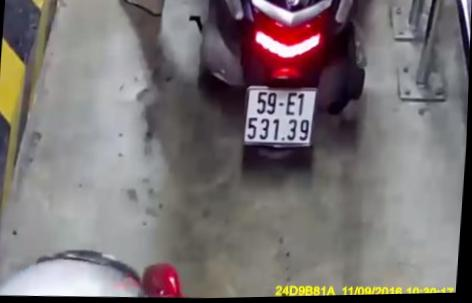LP: (239, 81, 323, 154)
